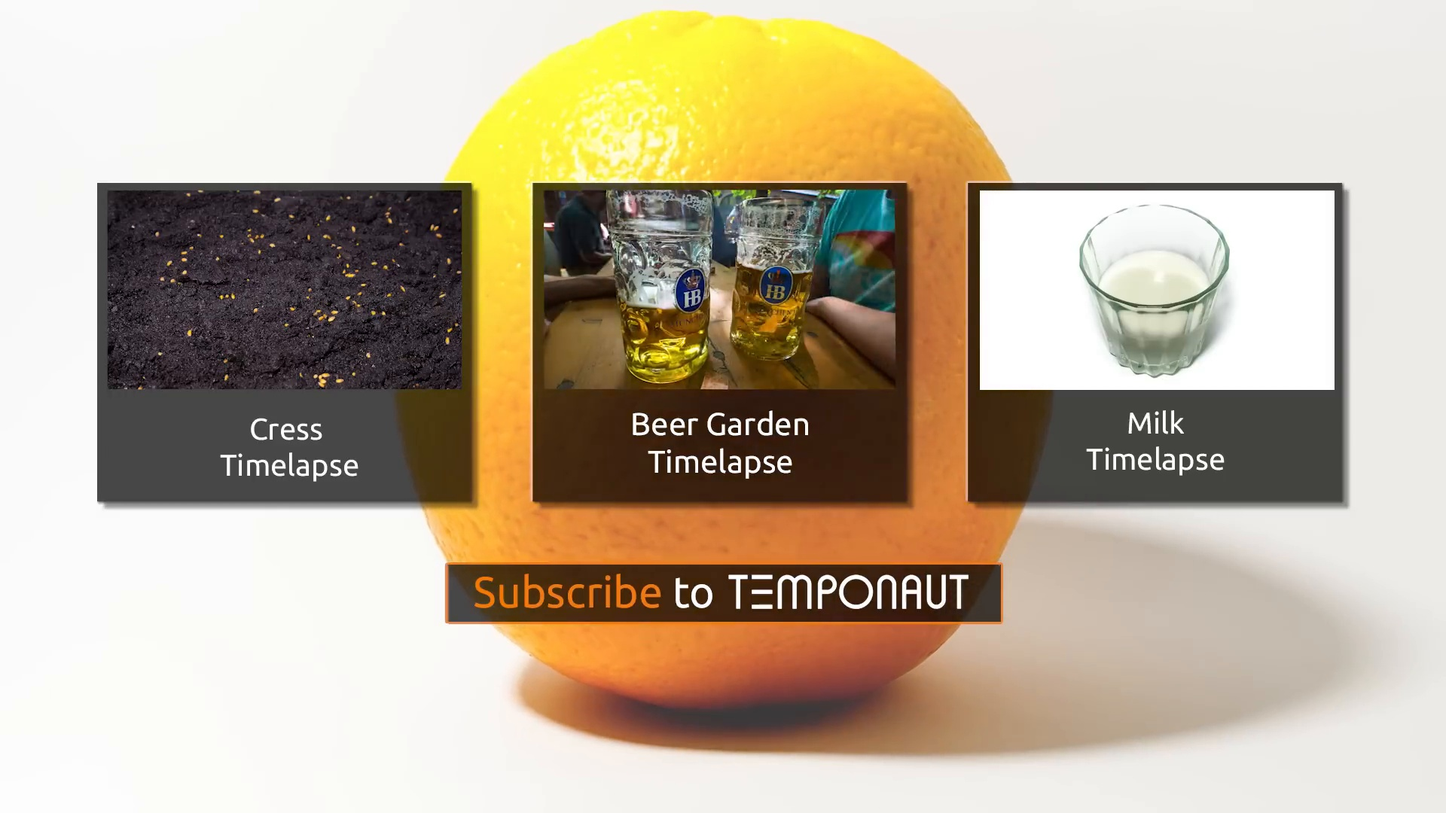orange_rotten: (393, 11, 1054, 716)
